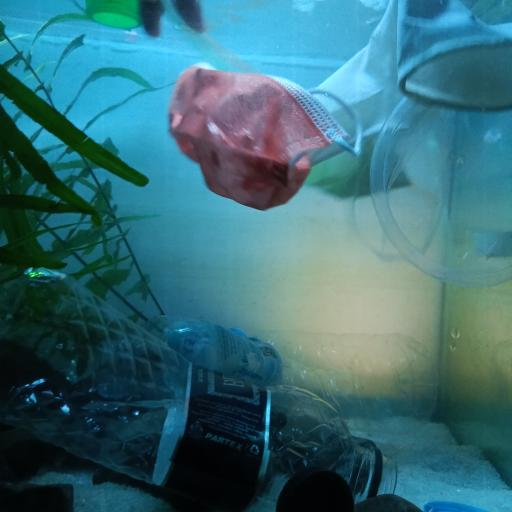bottle_cap: (275, 467, 356, 512), (86, 0, 139, 30), (422, 499, 486, 512)
glove: (313, 0, 512, 190)
mask: (171, 59, 363, 211)
plastic_bottle: (1, 264, 394, 502), (143, 313, 436, 437)
plastic_cup: (352, 97, 512, 284)
plastic_straw: (0, 17, 192, 54)
